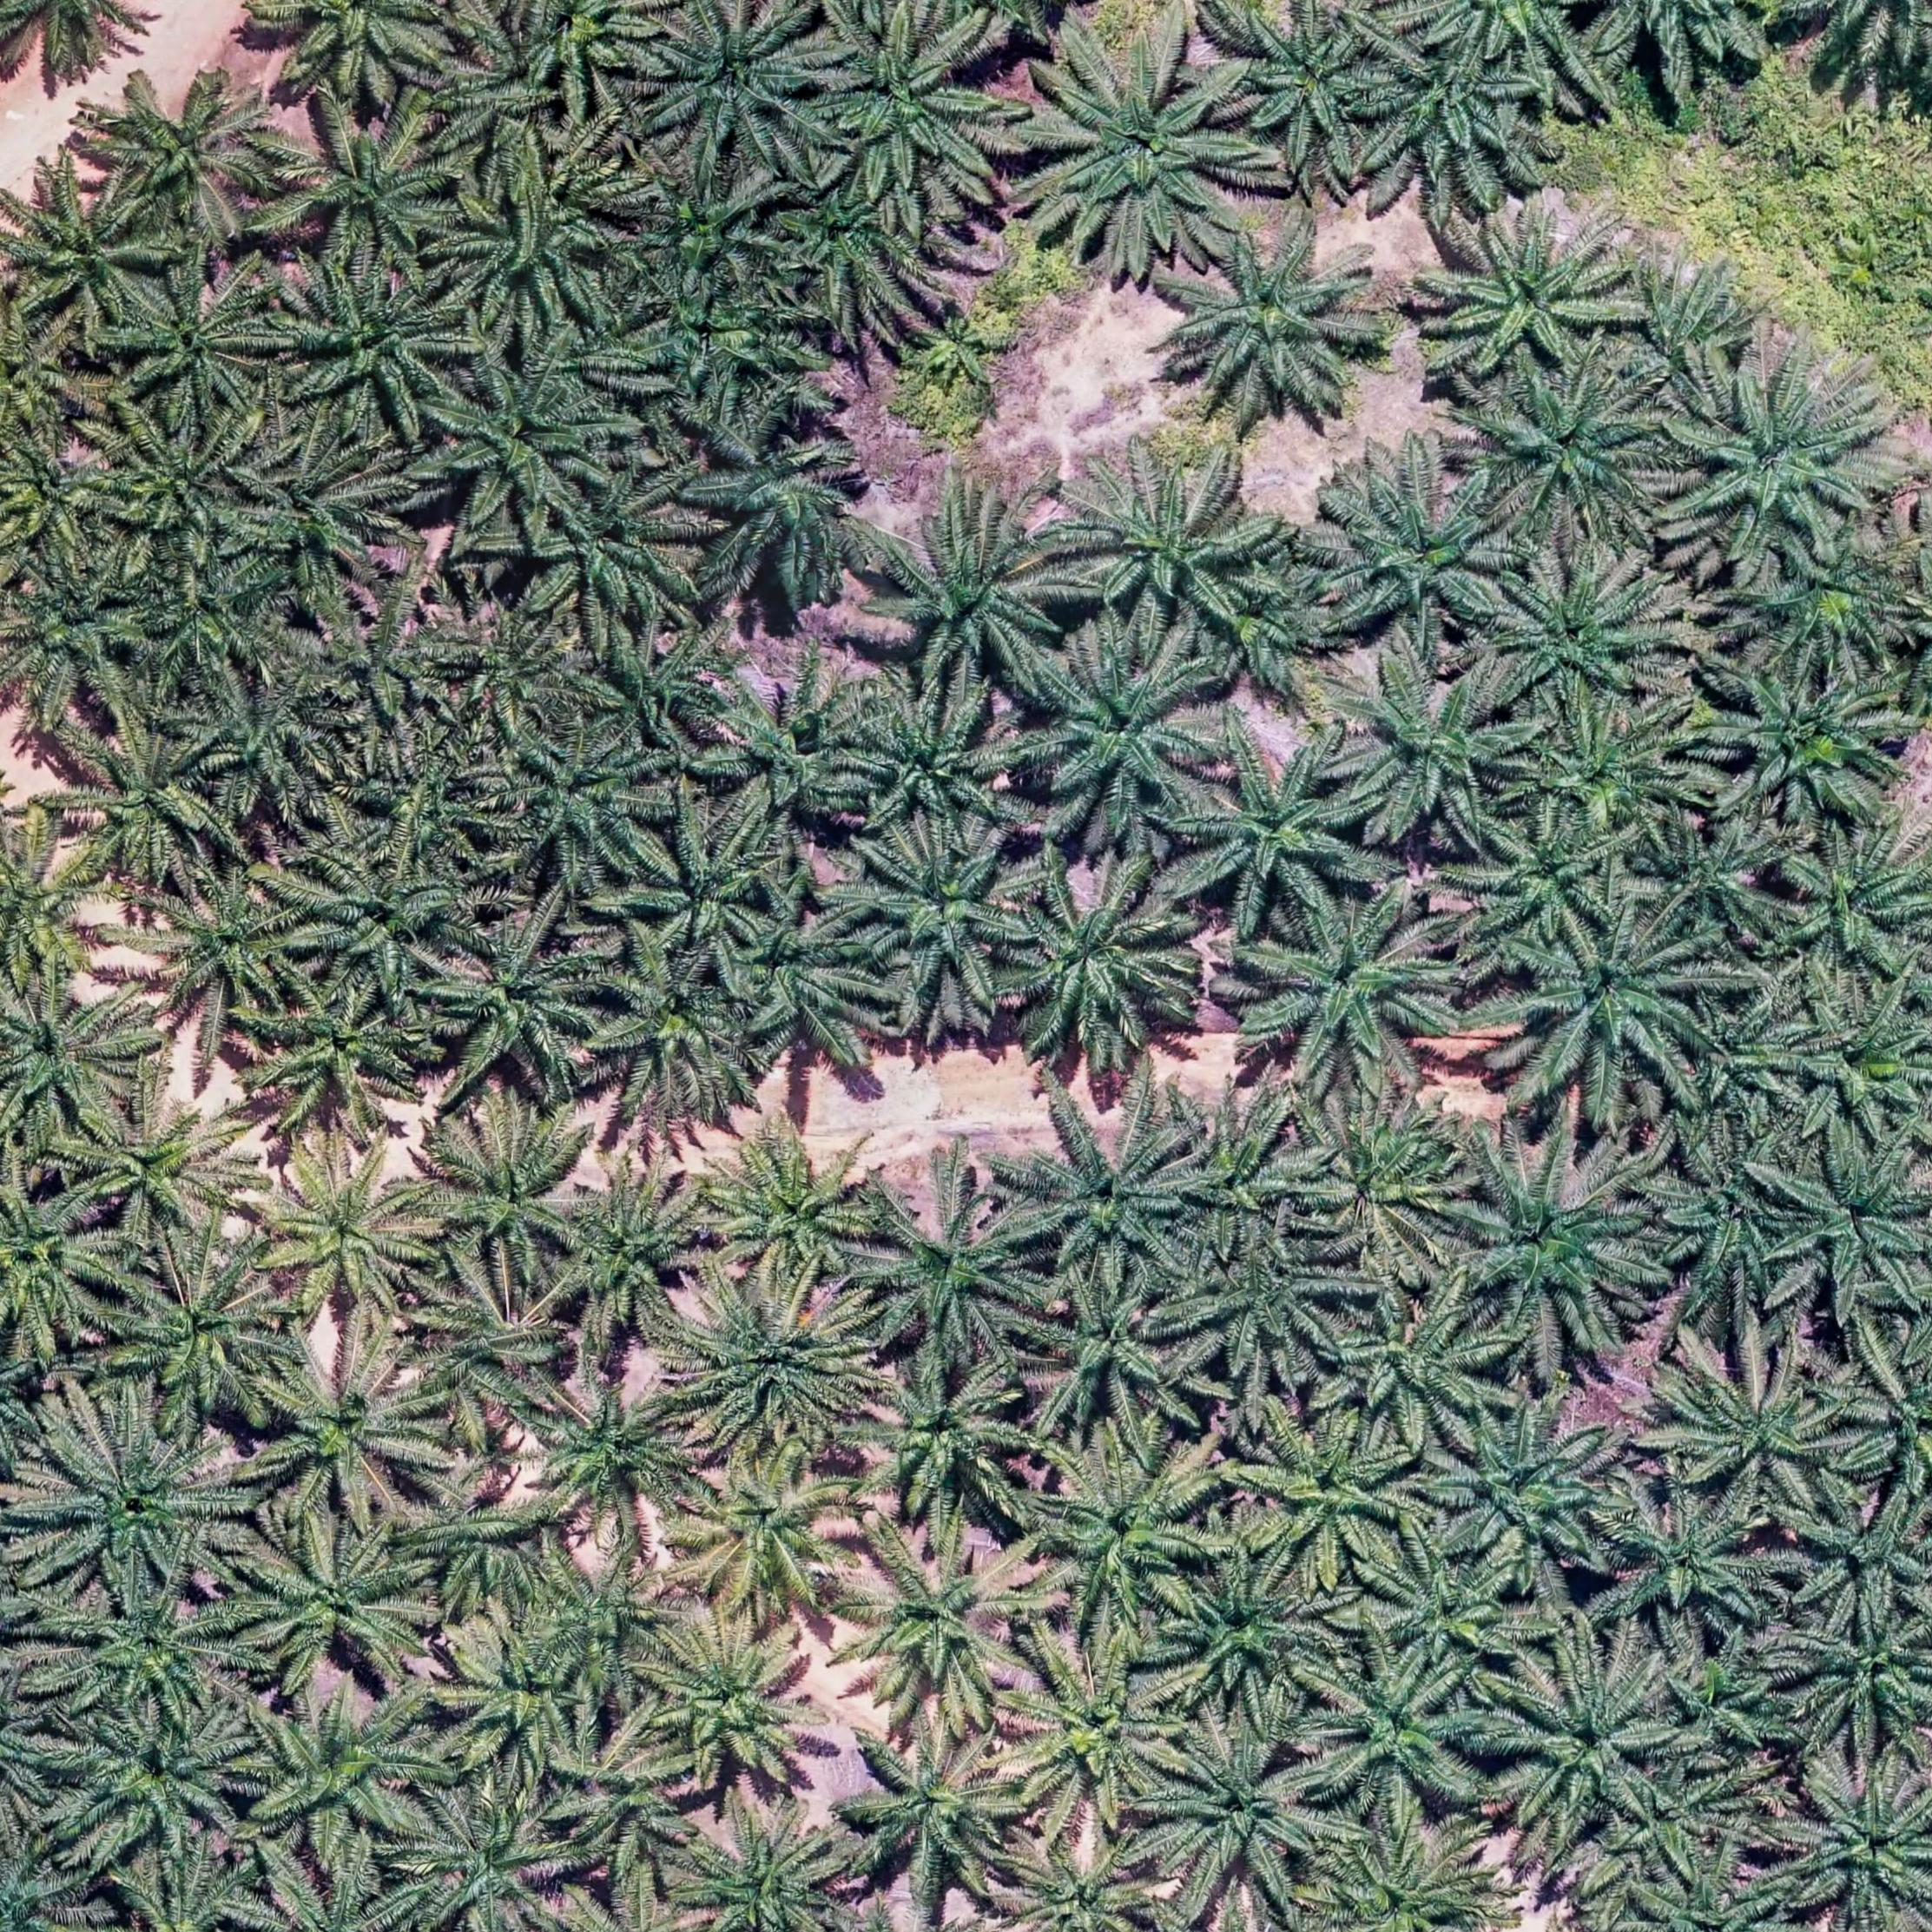palmtree: (1028, 34, 1260, 265), (1242, 886, 1467, 1102), (1493, 902, 1718, 1106), (1674, 359, 1895, 563), (1169, 219, 1387, 423), (805, 4, 1010, 214), (837, 1523, 1047, 1725), (1016, 633, 1223, 835), (30, 1407, 244, 1601), (1003, 1092, 1210, 1290), (867, 495, 1077, 690), (1017, 1438, 1221, 1637), (996, 863, 1198, 1062), (1454, 1157, 1663, 1348), (234, 1513, 441, 1700), (1424, 1396, 1626, 1585), (1490, 1647, 1688, 1838), (53, 1697, 264, 1875), (1182, 736, 1378, 927), (1316, 456, 1516, 644), (1330, 655, 1529, 840), (671, 1274, 874, 1454), (1430, 211, 1631, 389), (1001, 1633, 1187, 1826), (844, 821, 1042, 1001), (428, 357, 626, 536), (1150, 1720, 1341, 1904), (1651, 1338, 1851, 1513), (671, 1444, 865, 1622), (1476, 364, 1672, 541), (1065, 465, 1265, 639), (244, 1691, 444, 1865), (255, 1336, 444, 1518), (644, 1617, 835, 1798), (1706, 665, 1907, 833), (276, 260, 469, 435), (699, 1115, 893, 1288), (842, 1725, 1031, 1902), (858, 1187, 1047, 1364), (1016, 1272, 1207, 1447), (67, 1079, 260, 1253), (479, 722, 672, 895), (1237, 1410, 1431, 1582), (432, 906, 616, 1086), (99, 60, 283, 241), (255, 1150, 442, 1327), (442, 163, 637, 333), (110, 1251, 294, 1426), (1490, 552, 1683, 718), (640, 4, 833, 170), (706, 888, 885, 1067), (525, 1368, 713, 1537), (837, 685, 1031, 847), (425, 1108, 607, 1281), (1322, 1279, 1507, 1449), (134, 869, 324, 1035), (849, 1352, 1033, 1522), (1295, 1097, 1479, 1267), (248, 977, 432, 1145), (690, 430, 874, 598), (274, 110, 464, 272), (288, 846, 474, 1010), (586, 948, 763, 1120), (531, 465, 711, 632), (1509, 699, 1706, 851), (699, 674, 876, 842), (1313, 1647, 1491, 1813), (1364, 35, 1548, 196), (51, 1575, 246, 1725), (1162, 1553, 1343, 1714), (1175, 1228, 1361, 1384), (548, 1171, 718, 1341), (626, 267, 817, 418), (1743, 518, 1921, 678), (1605, 1493, 1785, 1651), (1221, 7, 1396, 168), (62, 727, 234, 890), (1187, 559, 1361, 715), (237, 437, 403, 598), (405, 1785, 587, 1932), (766, 168, 936, 326), (531, 1541, 694, 1704), (439, 1621, 602, 1783), (1775, 1141, 1932, 1309), (1375, 1534, 1541, 1691), (1644, 1162, 1821, 1307), (1782, 1759, 1932, 1927), (297, 591, 465, 741), (623, 810, 793, 959), (131, 548, 303, 695), (119, 267, 281, 419), (182, 672, 350, 819), (1783, 989, 1932, 1154), (672, 1805, 862, 1932), (14, 177, 173, 327), (1769, 828, 1930, 977), (0, 559, 154, 713), (400, 1461, 556, 1614), (552, 1720, 702, 1877), (103, 414, 264, 561), (1463, 810, 1626, 955), (418, 1270, 570, 1422), (1782, 1603, 1932, 1755), (0, 982, 142, 1143), (0, 1169, 124, 1353), (628, 161, 794, 297), (1304, 1824, 1507, 1932), (1783, 1488, 1932, 1635), (435, 18, 573, 175), (363, 740, 510, 883), (1635, 816, 1796, 945), (575, 623, 732, 754), (1173, 1113, 1318, 1254), (0, 824, 117, 996), (264, 0, 453, 104), (1605, 1760, 1757, 1890), (446, 607, 593, 734), (0, 430, 124, 575), (1617, 271, 1752, 403), (996, 1824, 1161, 1932), (0, 278, 99, 455), (1836, 1336, 1932, 1516), (1583, 0, 1762, 96), (1656, 1644, 1796, 1764), (1677, 998, 1810, 1123), (246, 1847, 433, 1932), (1776, 0, 1932, 101), (511, 0, 662, 103), (106, 1858, 276, 1932), (0, 1667, 69, 1842)
